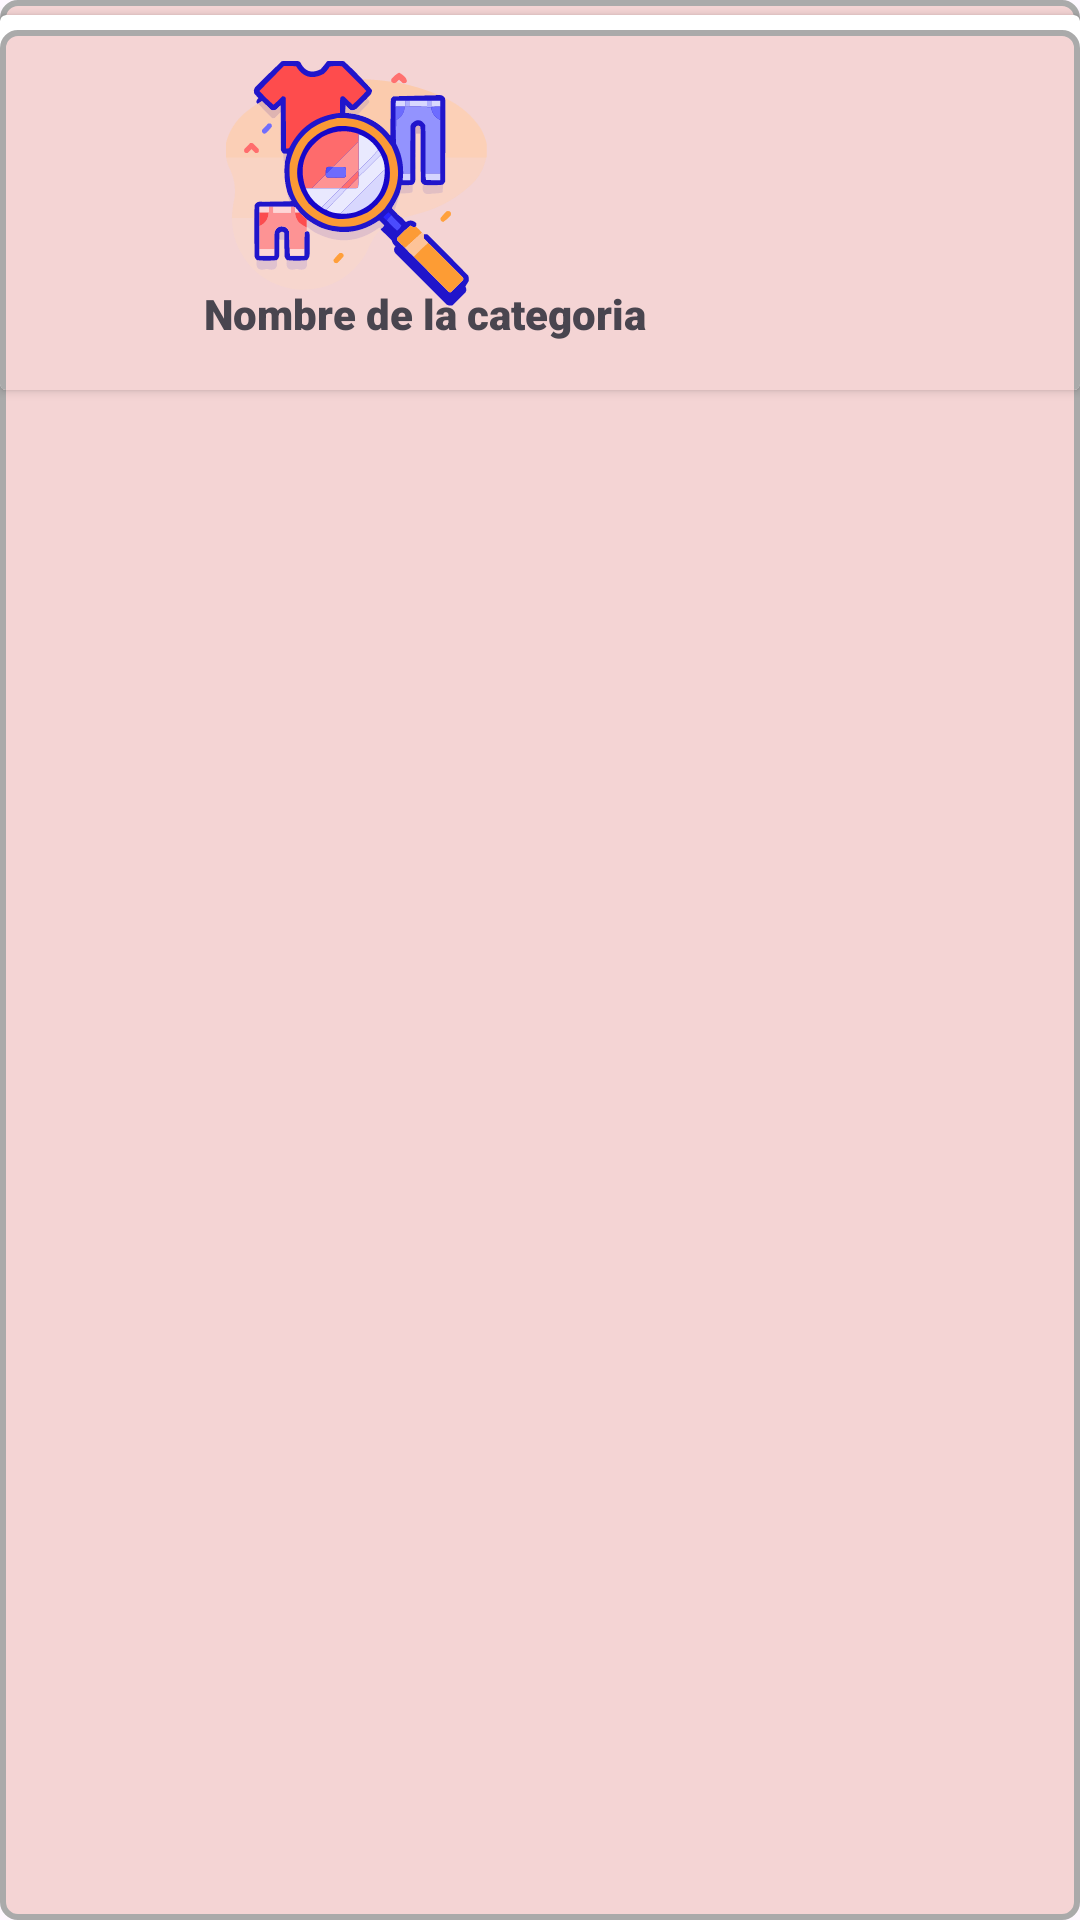

Icons on this 1080w x 1920h Android screen, each with the point to tap as point (x, y):
categoria universal: point (356, 183)
